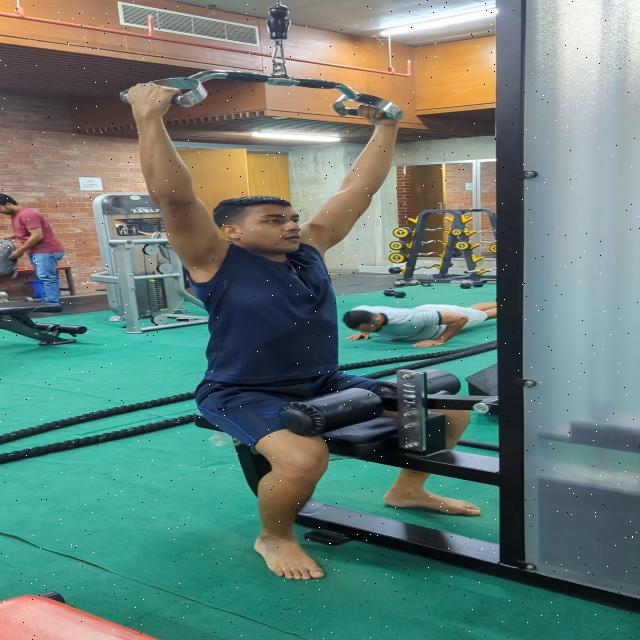Normal_LatPulldown: (110, 76, 492, 586)
